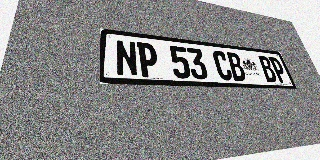3: (186, 47, 209, 80)
5: (169, 46, 192, 79)
B: (225, 52, 247, 81), (257, 55, 278, 82)
C: (211, 50, 234, 81)
N: (115, 39, 138, 77)
P: (136, 42, 159, 78), (268, 57, 289, 83)
